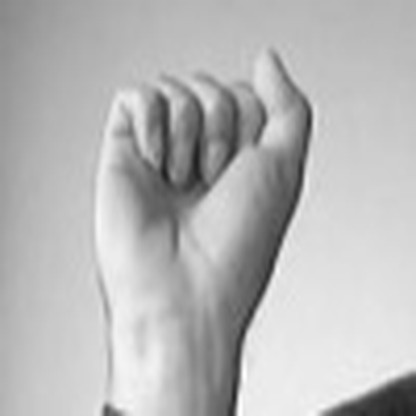a: (68, 30, 322, 303)
